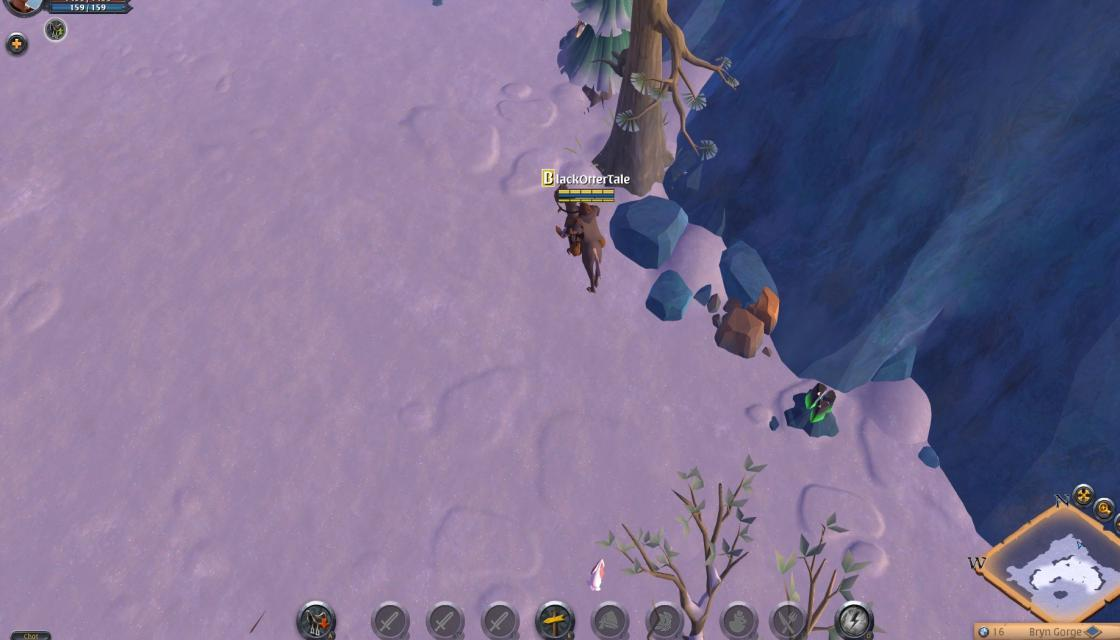limestone: (704, 274, 778, 358)
tinore: (786, 381, 846, 438)
